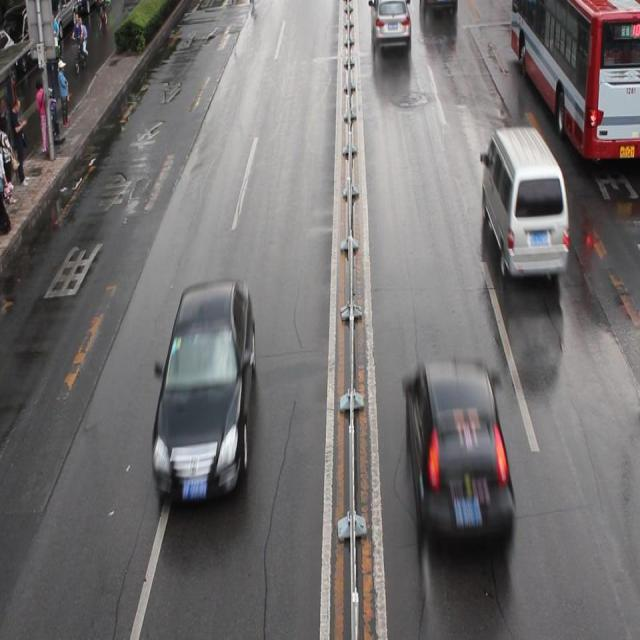car: (154, 282, 254, 500), (407, 364, 514, 543), (368, 1, 411, 49)
truck: (481, 127, 565, 280)
van: (510, 1, 640, 160)
